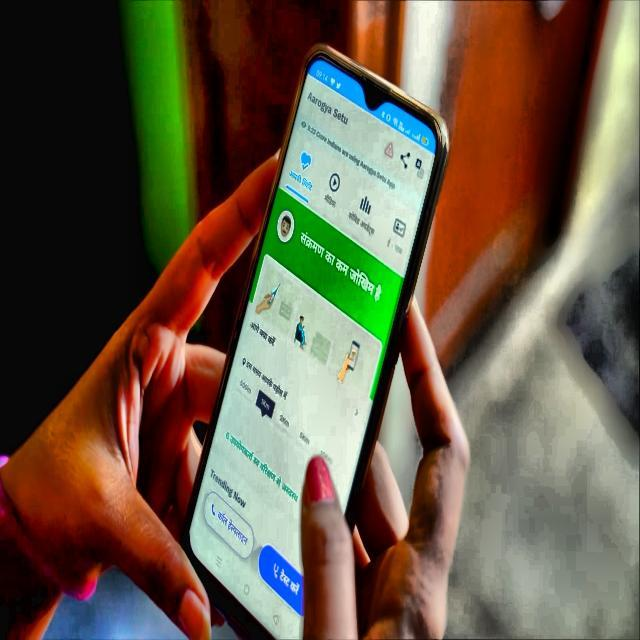Phone: (180, 37, 452, 640)
